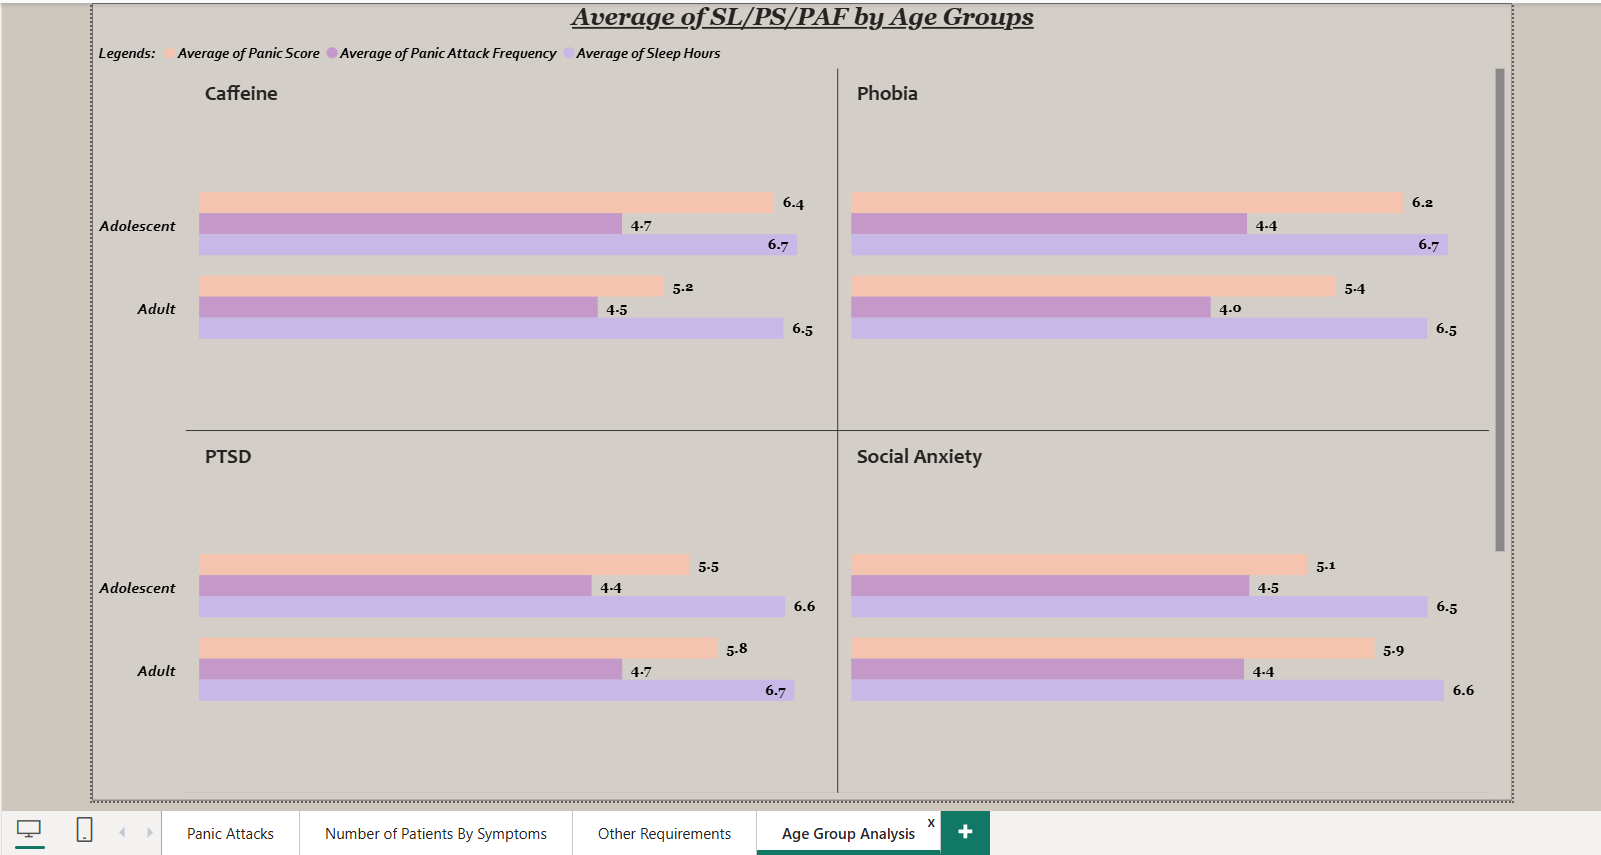

This screenshot's page, from the dashboard's own definition file:
{"tool":"powerbi","page":{"name":"Age Group Analysis","canvas":[1280,720],"ordinal":3},"visuals":[{"type":"clusteredBarChart","title":"Average of SL/PS/PAF by Age Groups","fields":{"Category":["PANIC_ATTACK_DATA.Age Group IF"],"Rows":["PANIC_ATTACK_DATA.TRIGGER_REASON"],"Y":["Avg(PANIC_ATTACK_DATA.PANIC_SCORE)","Avg(PANIC_ATTACK_DATA.PANIC_ATTACK_FREQUENCY)","Avg(PANIC_ATTACK_DATA.SLEEP_HOURS)"]},"box":[0,0,1280.4,719.1],"z":0}]}

Visuals, with their boxes on the page's 1280x720 design canvas (x1, y1, x2, y2). These are canvas units, not pixel positions in the 1601x855 screenshot, which may show the page scaled, cropped or inside an application window:
"Average of SL/PS/PAF by Age Groups" clusteredBarChart: (x1=0, y1=0, x2=1280, y2=719)
